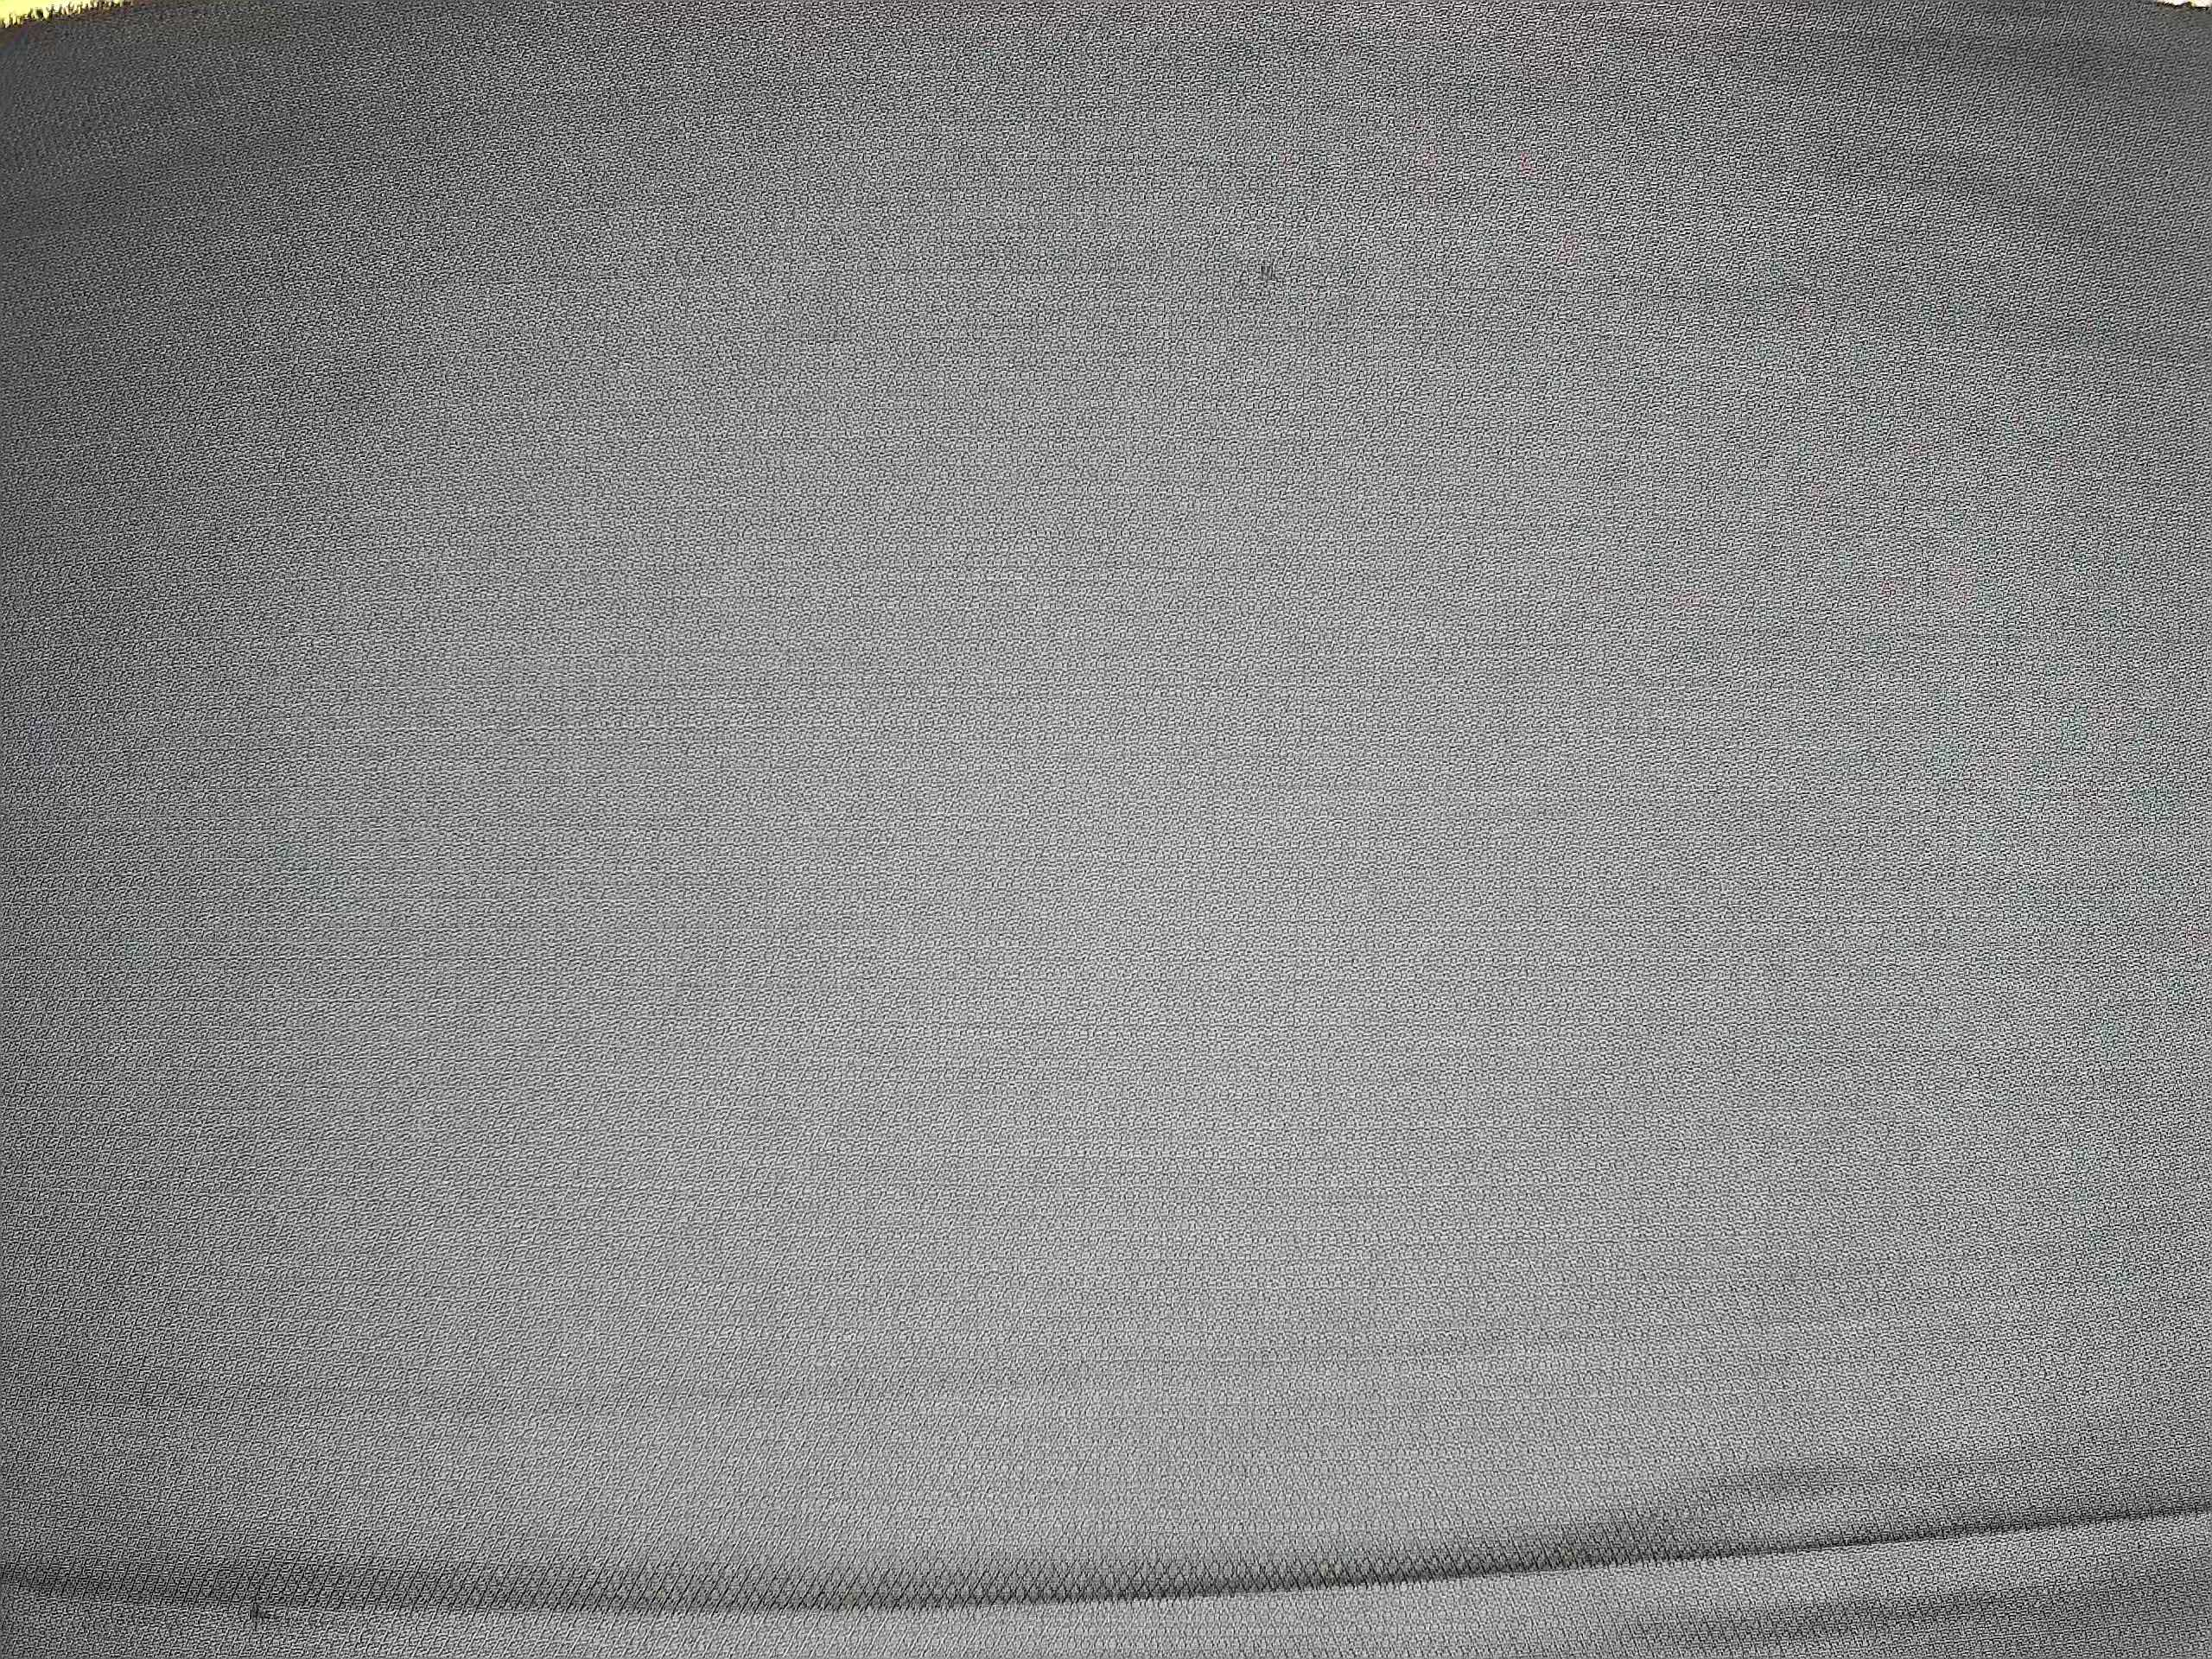rubbing-hole: (1249, 249, 1285, 291)
